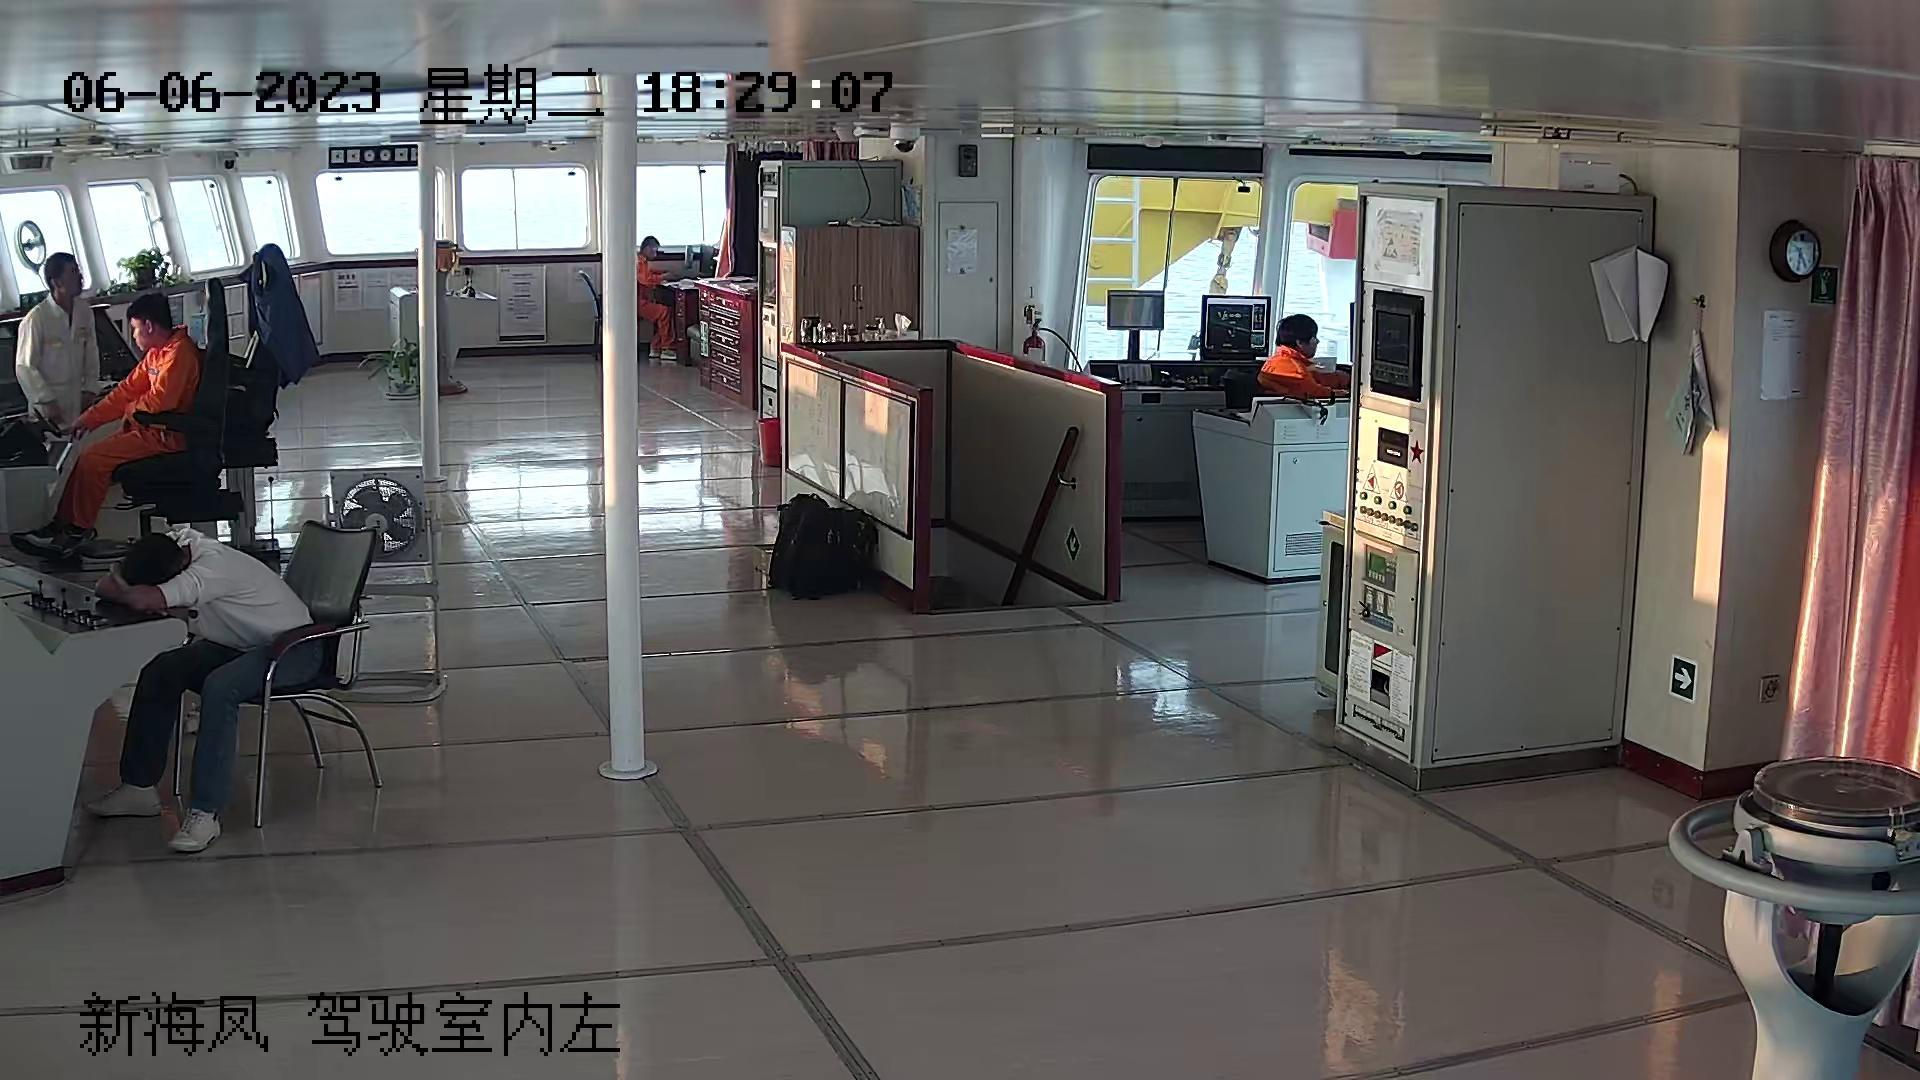sleep: (92, 527, 262, 641)
